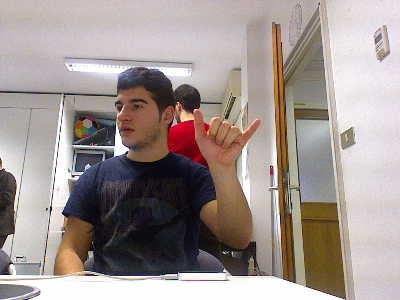六六六: (191, 108, 261, 168)
